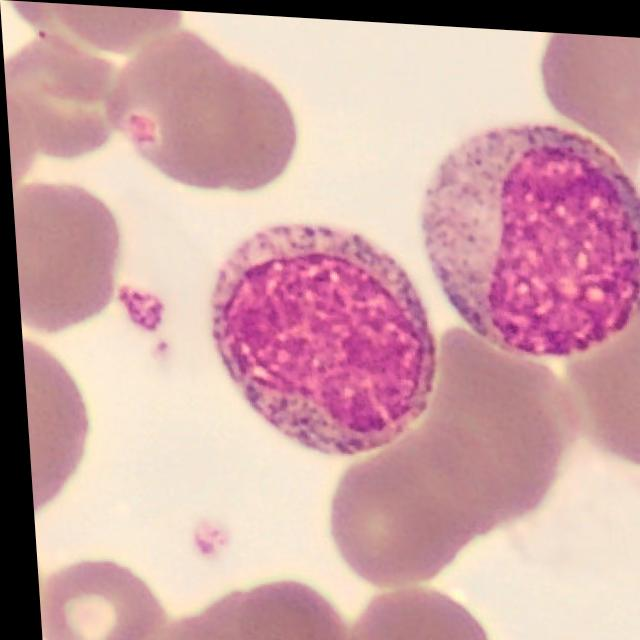Mielocito: (418, 116, 640, 353), (208, 220, 432, 454)
